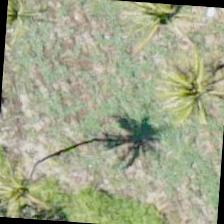Kelapa_Sawit: (151, 56, 223, 153), (0, 130, 65, 220), (106, 0, 200, 56), (4, 0, 65, 60)
